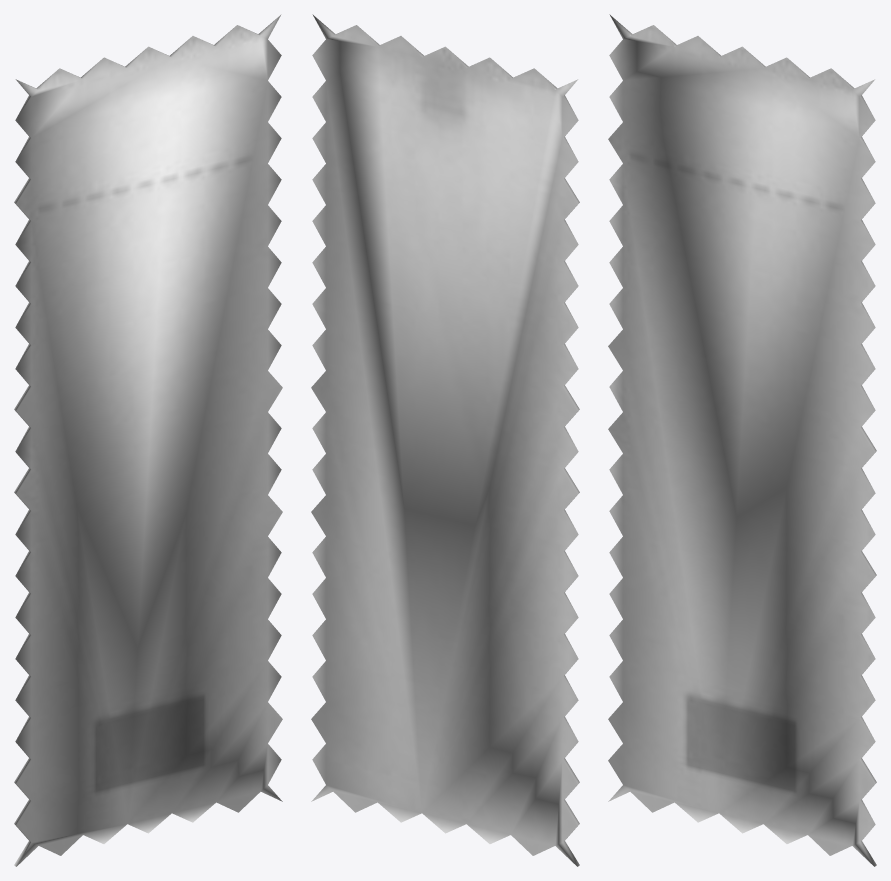
Rendered from sled_book_leaf.glb.
3 renders of one model, left to right at view 1: azimuth 30°, elevation 25°; view 2: azimuth 150°, elevation 25°; view 3: azimuth 330°, elevation 25°, orthographic.
Visible parts, largest first — view 1: prop_sled_book_leaf_felt; view 2: prop_sled_book_leaf_felt; view 3: prop_sled_book_leaf_felt.
Boxes of the visible parts, bbox=[...] form: prop_sled_book_leaf_felt: bbox=[14, 14, 282, 866]; prop_sled_book_leaf_felt: bbox=[311, 14, 579, 866]; prop_sled_book_leaf_felt: bbox=[608, 14, 876, 866].
Size of the model in its own units: 0.62 by 1.75 by 0.01.
Materials: 1 (1 with a texture image).
